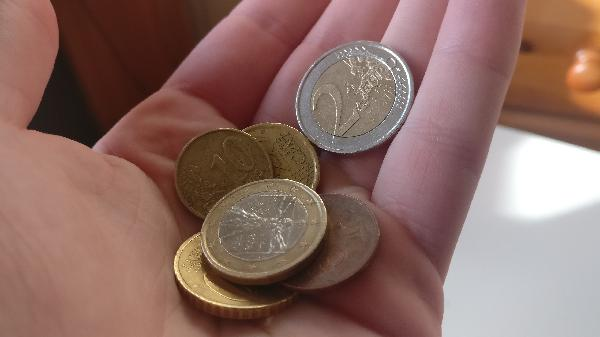Fifty Cent: (175, 236, 300, 317)
Five Cent: (272, 192, 383, 296)
One Euro: (201, 179, 329, 282)
Ten Cent: (172, 126, 274, 216)
Twenty Cent: (232, 123, 325, 192)
Two Euro: (296, 42, 413, 152)
